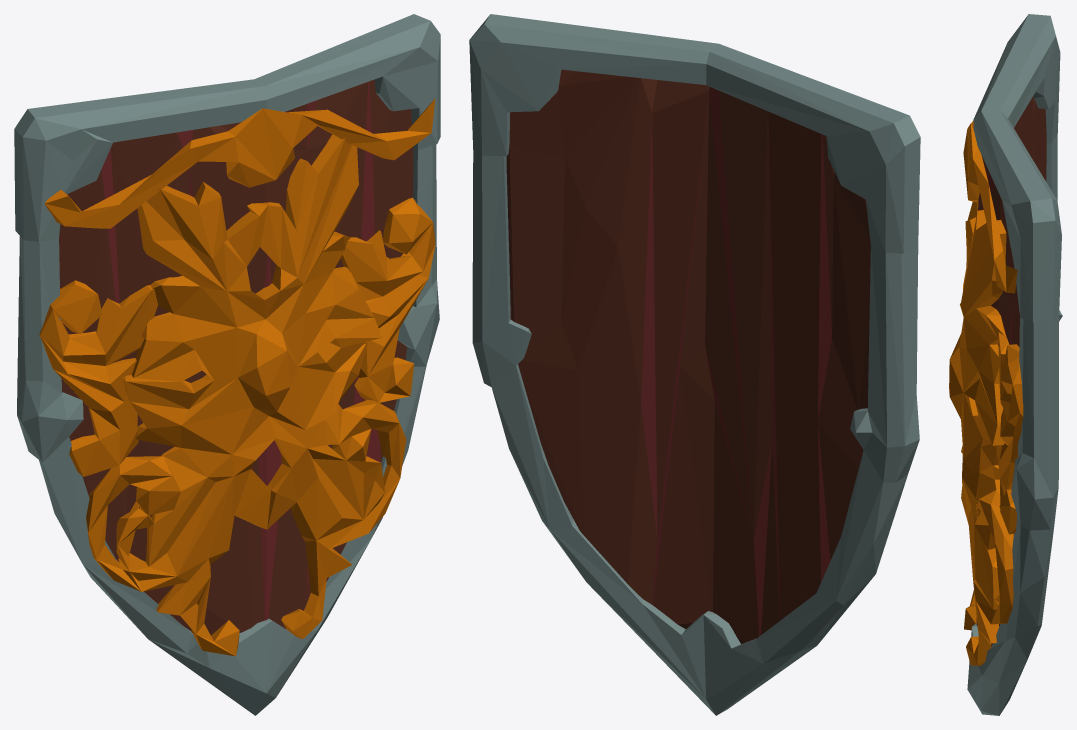
Rendered from MCastle_Shield.FBX.
The picture shows the model from 3 angles, left to right: view 1: azimuth 30°, elevation 25°; view 2: azimuth 150°, elevation 25°; view 3: azimuth 270°, elevation 25°; orthographic projection. The views are drawn at different scales.
Parts seen in each view (by area): view 1: MCastle_Shield_LOD0; view 2: MCastle_Shield_LOD0; view 3: MCastle_Shield_LOD0.
Part boxes in pixels (<box>): MCastle_Shield_LOD0: <box>14,14,440,715</box>; MCastle_Shield_LOD0: <box>469,14,920,715</box>; MCastle_Shield_LOD0: <box>949,14,1062,715</box>.
Size of what is drawn, in the model's own units: 1.49 by 2.13 by 0.3622.
